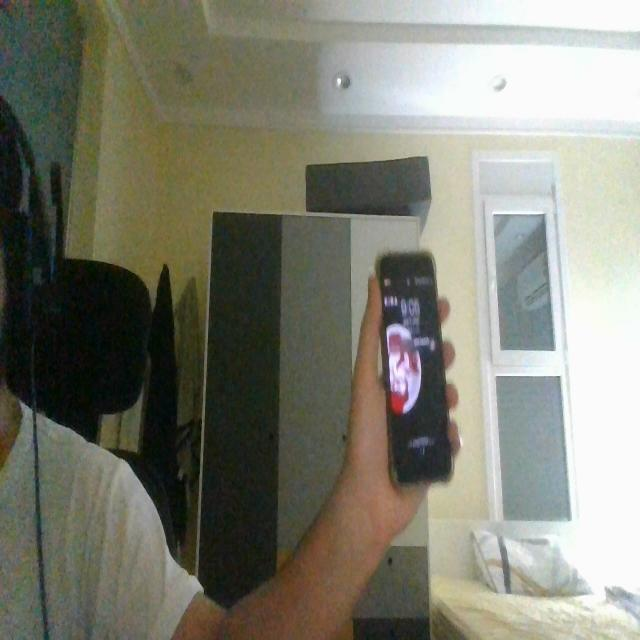Phone: (374, 250, 456, 493)
